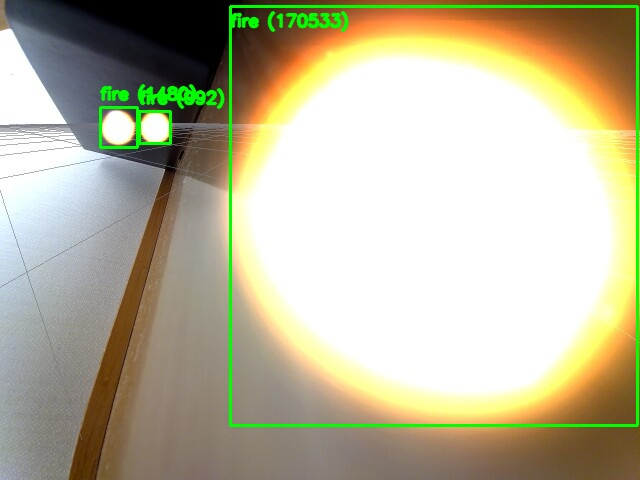fire: (230, 6, 637, 425), (100, 107, 137, 147), (139, 111, 170, 143)
